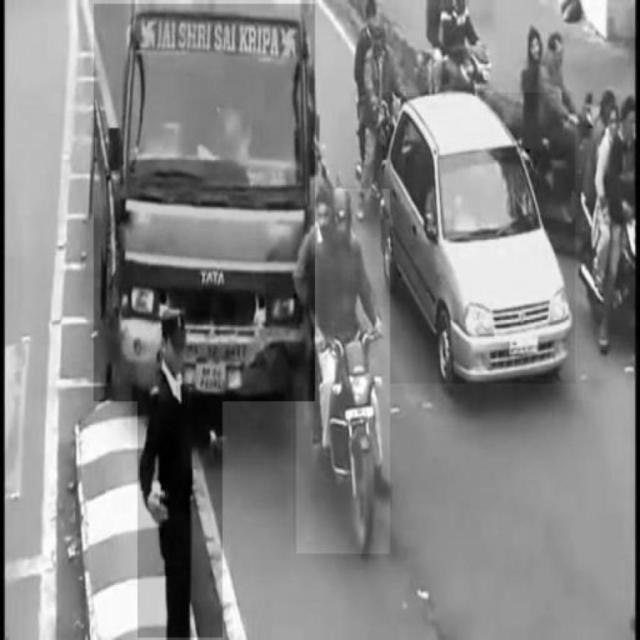person: (138, 304, 222, 638)
vehicle: (94, 4, 315, 401), (382, 93, 576, 384), (297, 190, 390, 555)
